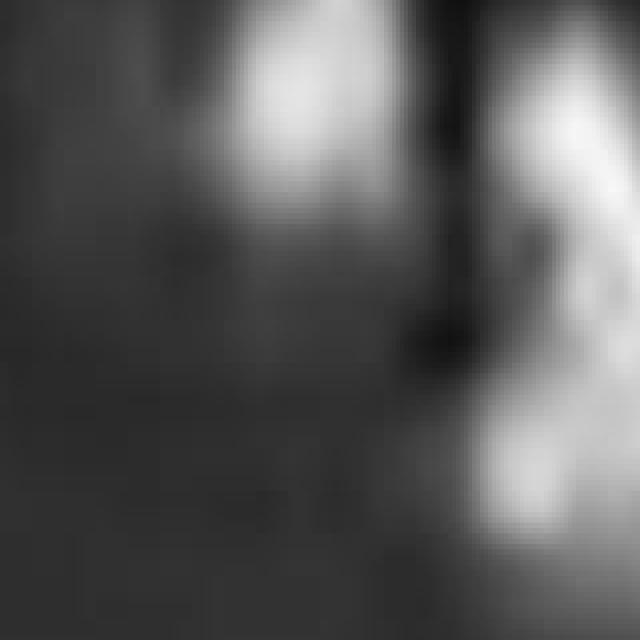person: (469, 28, 640, 598), (221, 1, 421, 305)
